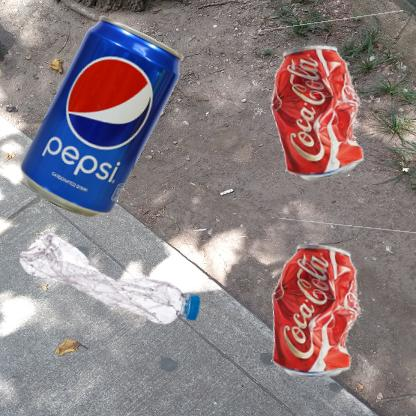botella: (10, 213, 272, 373)
lata: (10, 10, 233, 290), (213, 10, 416, 229), (213, 213, 416, 416)
